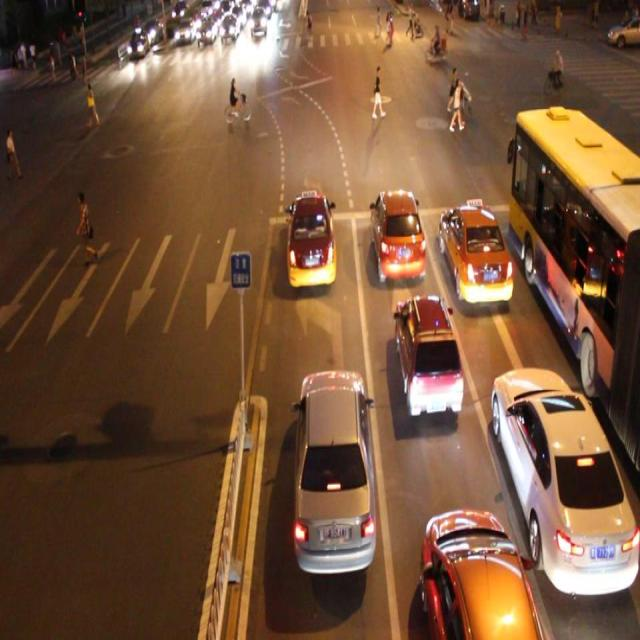car: (490, 366, 640, 595), (293, 368, 378, 575), (420, 507, 545, 640), (395, 297, 466, 422), (440, 204, 518, 308), (373, 192, 429, 288), (287, 192, 340, 289)
van: (511, 116, 640, 468)
